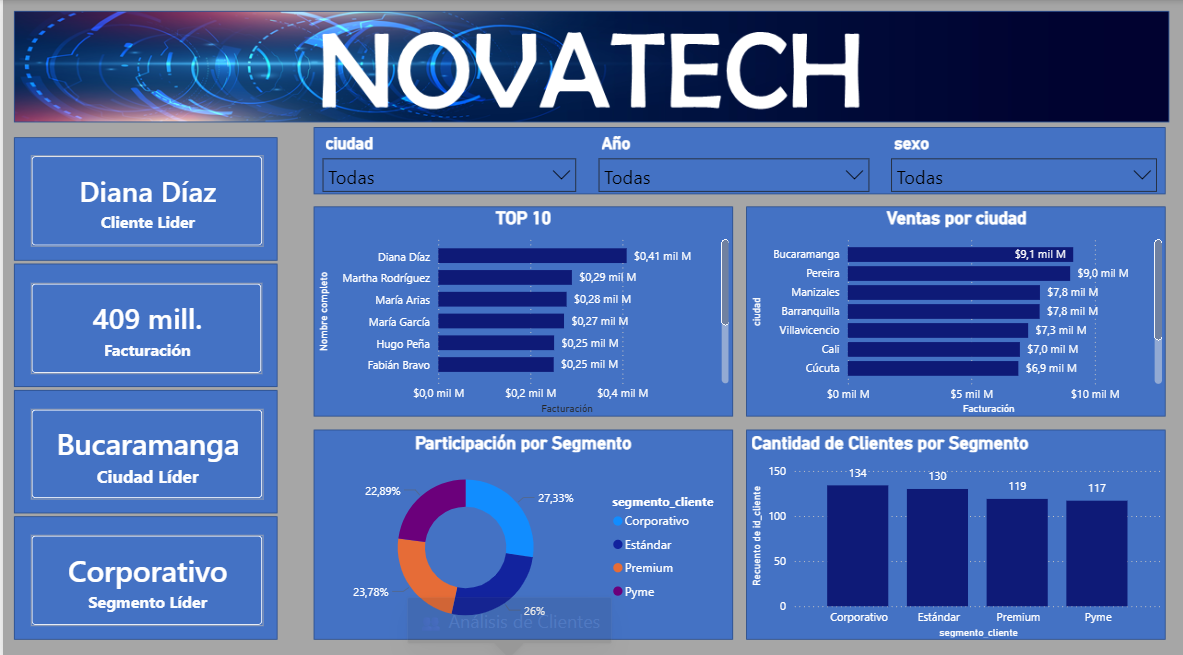

What the dashboard file says about the page in this screenshot:
{"tool":"powerbi","page":{"name":"👥 Análisis de Clientes","canvas":[1280,720],"ordinal":1},"visuals":[{"type":"clusteredBarChart","title":"TOP 10","fields":{"Category":["clientes.Nombre completo"],"Y":["Medidas.Ventas Totales"]},"box":[337.1,224.7,455.3,228.8],"z":0},{"type":"clusteredBarChart","title":"Ventas por ciudad","fields":{"Category":["clientes.ciudad"],"Y":["Medidas.Ventas Totales"]},"box":[806.5,224.7,454.7,229.4],"z":1000},{"type":"cardVisual","fields":{"Data":["Medidas.cliente líder"]},"box":[12.4,151.2,286,133.6],"z":2000},{"type":"slicer","fields":{"Values":["Calendario.Año"]},"box":[636,140,313.2,71.6],"z":3000},{"type":"slicer","fields":{"Values":["clientes.sexo"]},"box":[953.2,140,308,71.6],"z":4000},{"type":"donutChart","title":"Participación por Segmento","fields":{"Category":["clientes.segmento_cliente"],"Y":["Medidas.Ventas Totales"]},"box":[337.1,468.2,455.3,227.6],"z":5000},{"type":"columnChart","title":"Cantidad de Clientes por Segmento","fields":{"Category":["clientes.segmento_cliente"],"Y":["CountNonNull(clientes.id_cliente)"]},"box":[806.5,468.2,454.7,227.6],"z":6000},{"type":"slicer","fields":{"Values":["clientes.ciudad"]},"box":[337.2,140,294.8,71.6],"z":7000},{"type":"cardVisual","fields":{"Data":["Medidas.Ciudad Líder"]},"box":[12.4,426,286,132.8],"z":8000},{"type":"cardVisual","fields":{"Data":["Medidas.Segmento Líder"]},"box":[12.4,562.8,286,133.2],"z":9000},{"type":"cardVisual","fields":{"Data":["Medidas.Max Facturacion Cliente"]},"box":[12.4,289.2,285.4,133.3],"z":10000}]}

Visuals, with their boxes in screenshot pixels (x1, y1, x2, y2), scaled from the page's 1280x720 canvas onto the 1183x655 screenshot:
"TOP 10" clusteredBarChart: Rect(312, 204, 732, 413)
"Ventas por ciudad" clusteredBarChart: Rect(745, 204, 1166, 413)
cardVisual - Medidas.cliente líder: Rect(11, 138, 276, 259)
slicer - Calendario.Año: Rect(588, 127, 877, 192)
slicer - clientes.sexo: Rect(881, 127, 1166, 192)
"Participación por Segmento" donutChart: Rect(312, 426, 732, 633)
"Cantidad de Clientes por Segmento" columnChart: Rect(745, 426, 1166, 633)
slicer - clientes.ciudad: Rect(312, 127, 584, 192)
cardVisual - Medidas.Ciudad Líder: Rect(11, 388, 276, 508)
cardVisual - Medidas.Segmento Líder: Rect(11, 512, 276, 633)
cardVisual - Medidas.Max Facturacion Cliente: Rect(11, 263, 275, 384)
